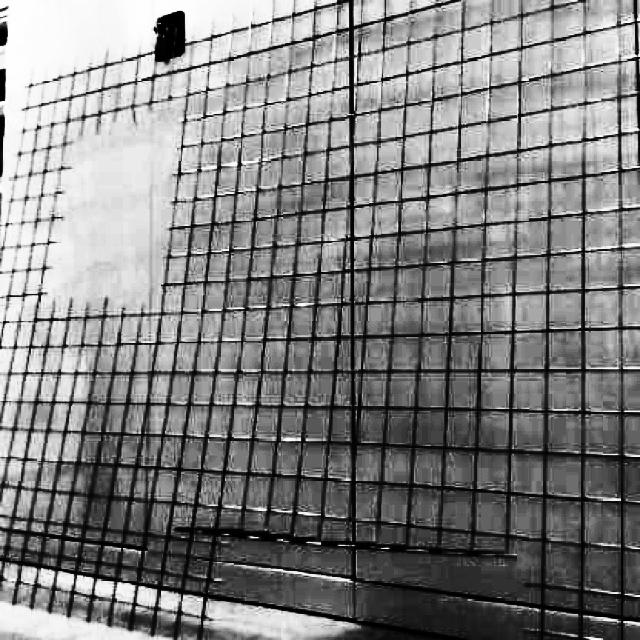anomaly-fence: (173, 502, 537, 640), (20, 116, 216, 318)
